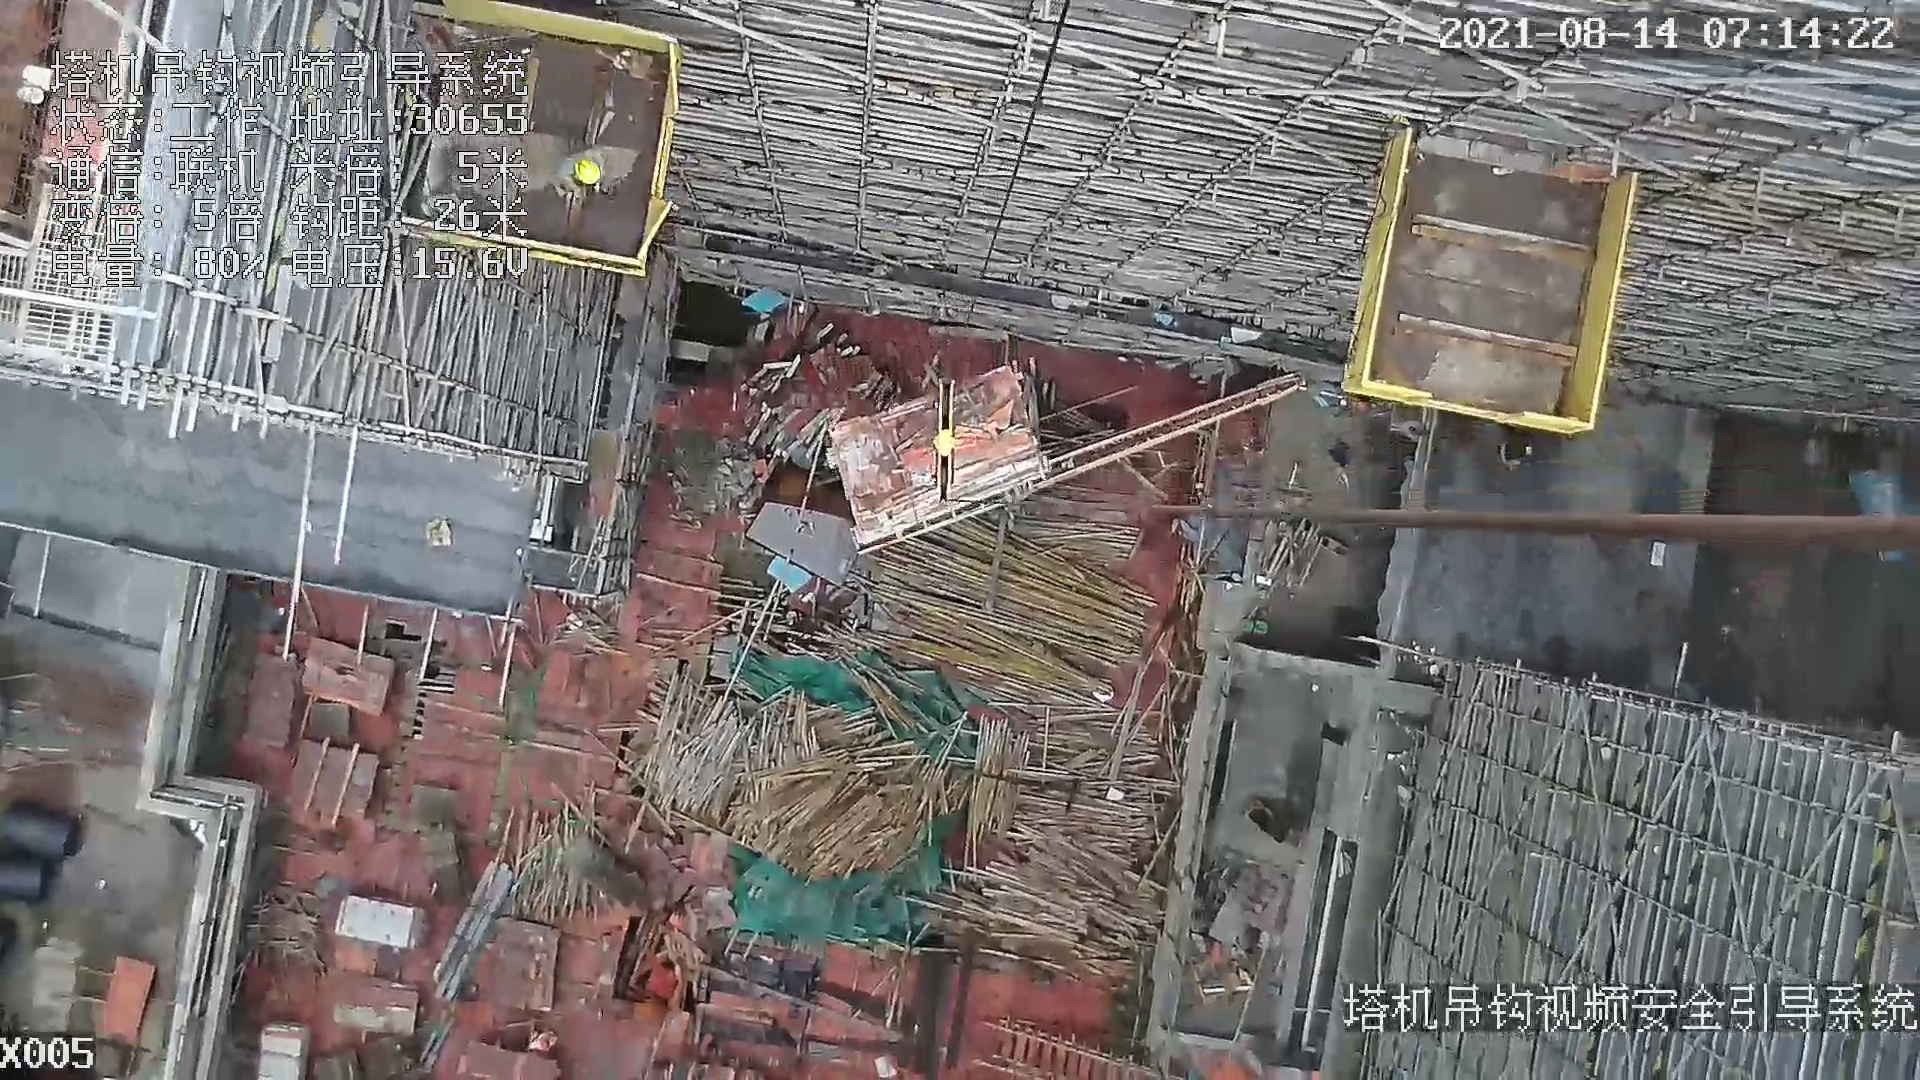helmet: (577, 160, 606, 186)
hook: (927, 382, 979, 509)
person: (569, 155, 604, 192)
